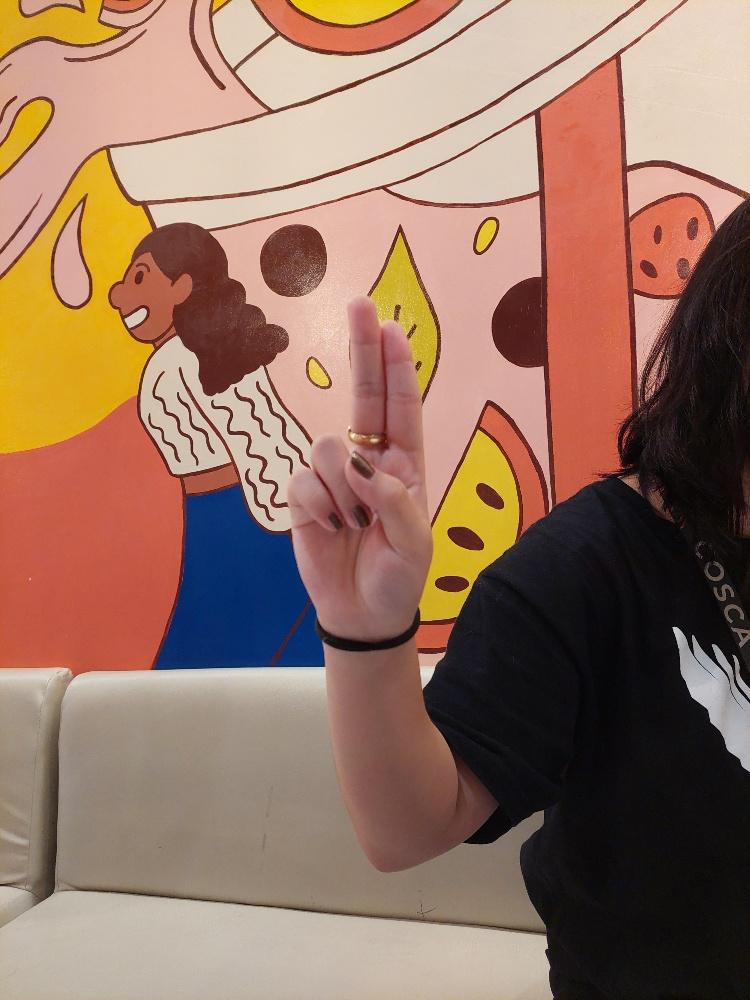u: (283, 290, 434, 637)
